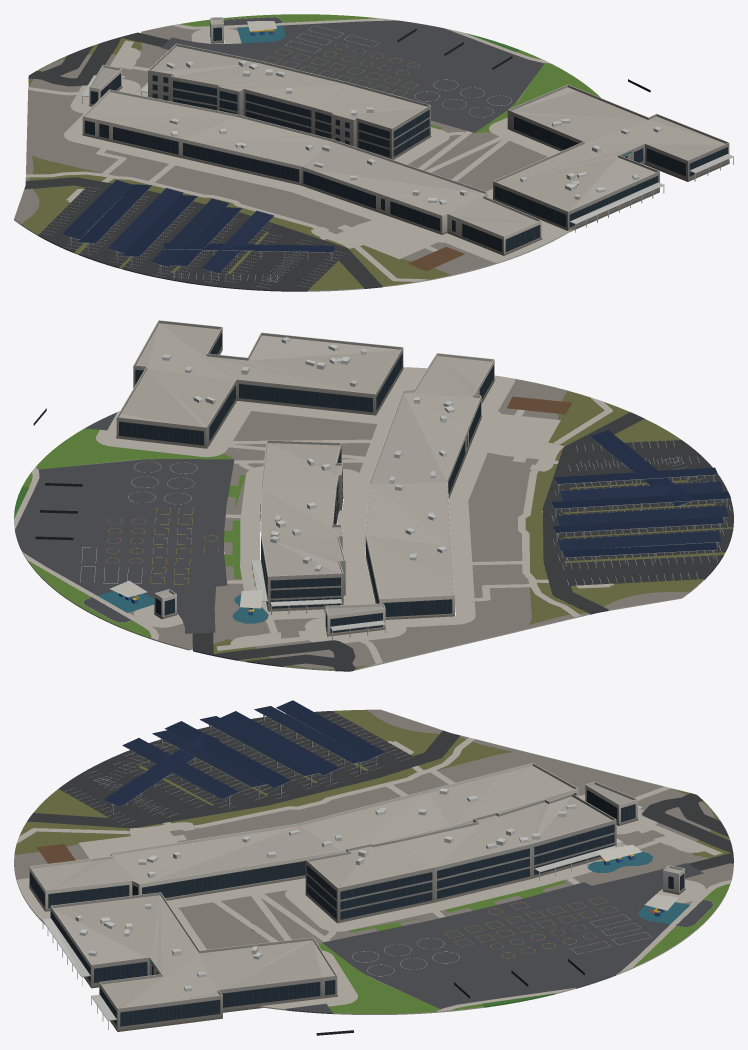
The model's file is design39.glb.
3 renders of one model, top to bottom at view 1: azimuth 30°, elevation 25°; view 2: azimuth 150°, elevation 25°; view 3: azimuth 270°, elevation 25°, orthographic. The views are drawn at different scales.
Parts seen in each view (by area): view 1: design39_ground, design39_buildings; view 2: design39_ground, design39_buildings; view 3: design39_ground, design39_buildings.
Boxes of the visible parts, x1,y1,x2,y2 form: design39_ground: (14,14,600,291); design39_buildings: (61,17,733,281); design39_ground: (14,367,733,671); design39_buildings: (33,320,731,639); design39_ground: (14,709,733,1014); design39_buildings: (29,700,685,1035).
Bounding box in the file's own units: 261 × 14.48 × 244.
